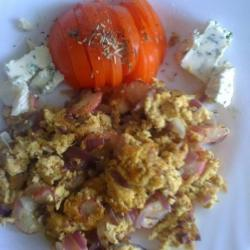omelette: (7, 91, 216, 246)
